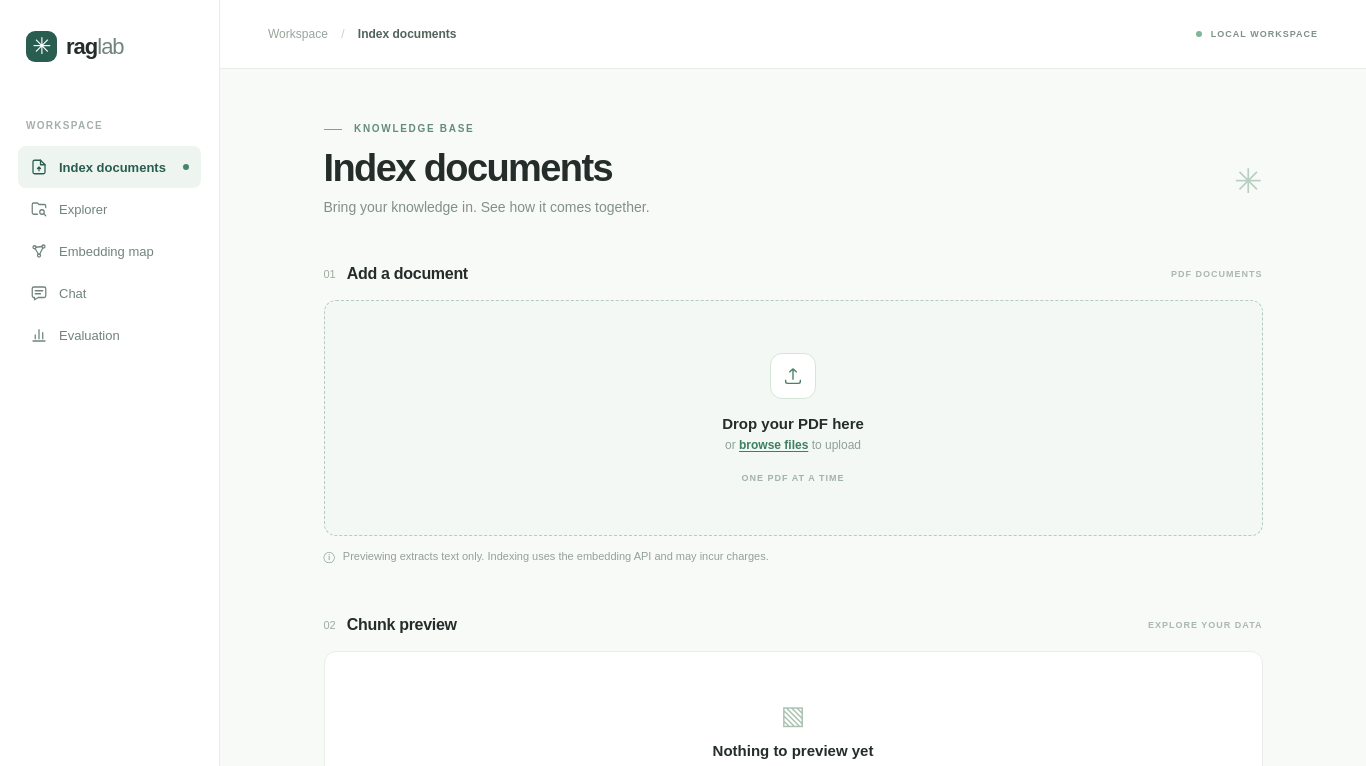
Test case: navigates to the evaluation page
The width and height of the screenshot is (1366, 766).
Step 1. Click the link "Evaluation" → (75, 335), box [30,326,120,344]
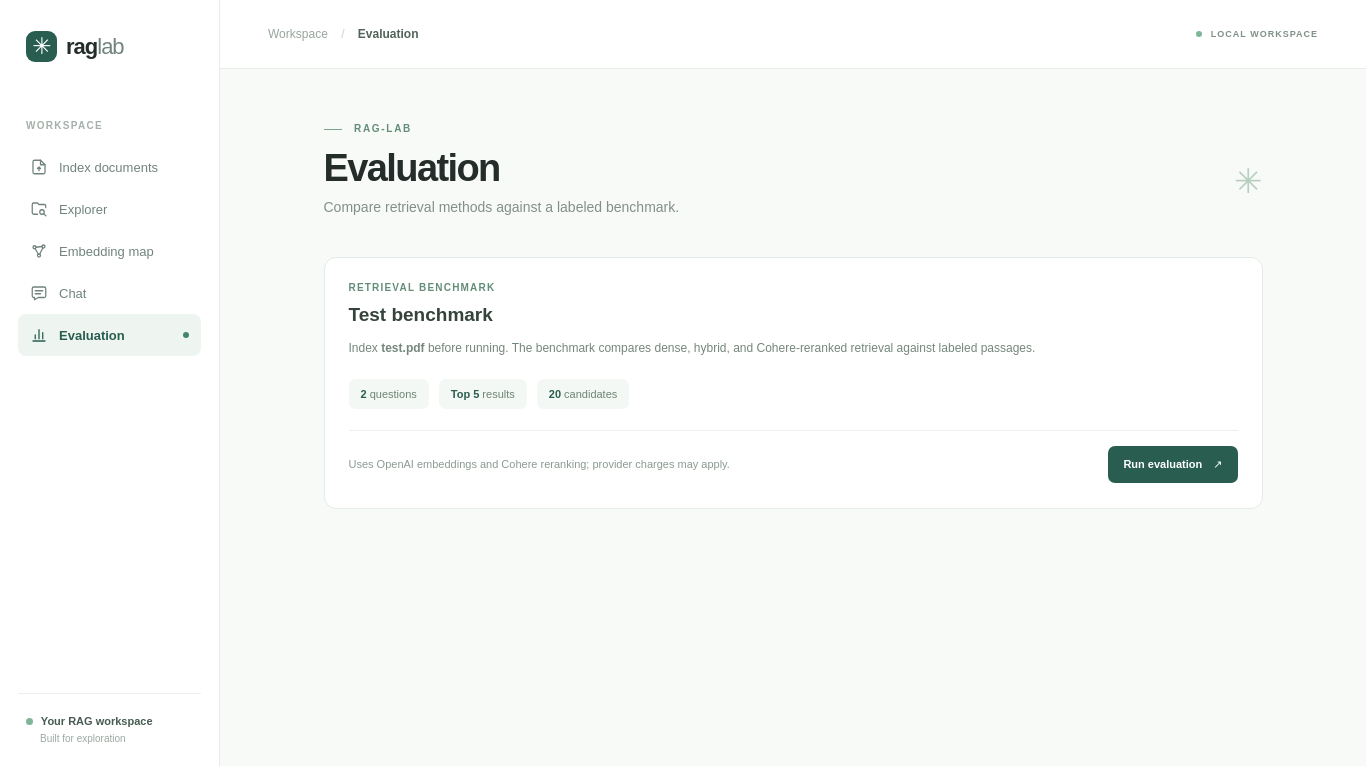
Now the heading "Test benchmark" is shown, box [348,304,493,325]
